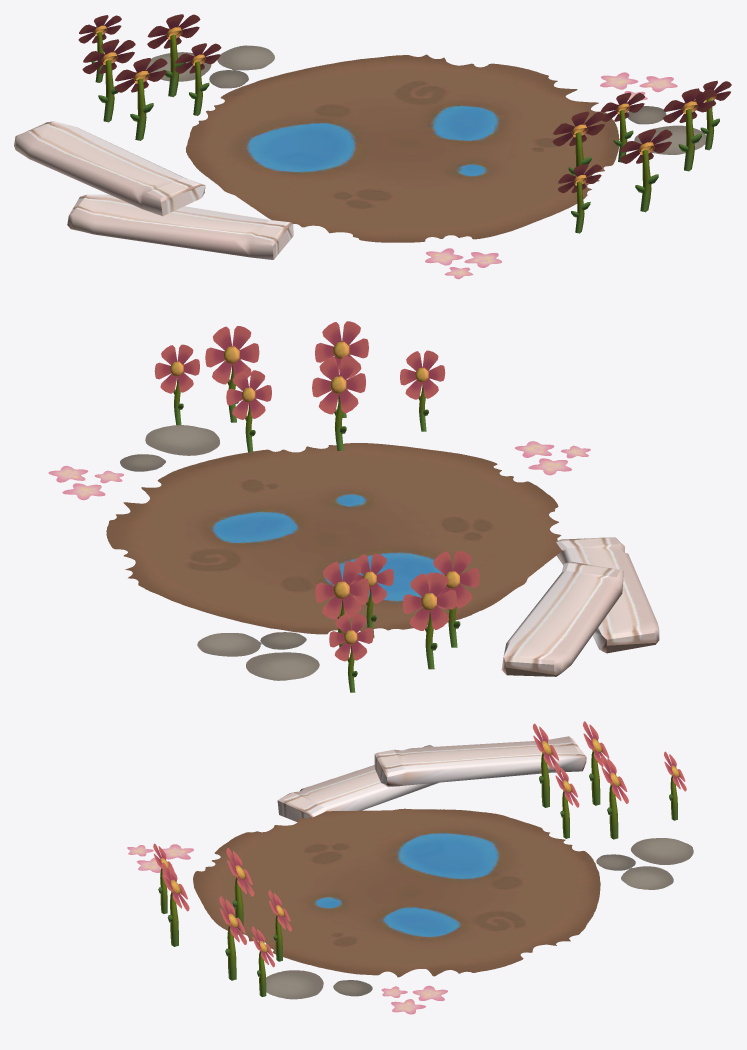
Rendered from DecoFishingPondBroken.fbx.
The picture shows the model from 3 angles, top to bottom: view 1: azimuth 30°, elevation 25°; view 2: azimuth 150°, elevation 25°; view 3: azimuth 270°, elevation 25°; orthographic projection. The views are drawn at different scales.
Visible parts, largest first — view 1: pPlane1 (1), Plank (×2), Redflower (7), Redflower (2), Redflower (1), Redflower (9), Redflower (8), Redflower (4), Redflower (6), Redflower (10), Redflower, Redflower (5) (+1 smaller); view 2: pPlane1 (1), Plank (×2), Redflower (9), Redflower (4), Redflower (1), Redflower (8), Redflower (7), Redflower, Redflower (10), Redflower (3), Redflower (5), Redflower (2) (+1 smaller); view 3: pPlane1 (1), Plank (×2), Redflower (1), Redflower (8), Redflower (2), Redflower (7), Redflower (9), Redflower (4), Redflower (6), Redflower, Redflower (3), Redflower (5) (+1 smaller).
Part boxes in pixels (left/top/right/bottom): pPlane1 (1): left=146, top=45, right=706, bottom=279; Plank (×2): left=14, top=121, right=293, bottom=259; Redflower (7): left=114, top=58, right=167, bottom=140; Redflower (2): left=619, top=129, right=672, bottom=212; Redflower (1): left=663, top=88, right=715, bottom=171; Redflower (9): left=82, top=39, right=135, bottom=122; Redflower (8): left=147, top=14, right=200, bottom=97; Redflower (4): left=552, top=111, right=605, bottom=186; Redflower (6): left=175, top=43, right=221, bottom=115; Redflower (10): left=558, top=164, right=601, bottom=233; Redflower: left=600, top=92, right=644, bottom=162; Redflower (5): left=78, top=15, right=121, bottom=82; pPlane1 (1): left=48, top=425, right=590, bottom=680; Plank (×2): left=501, top=537, right=659, bottom=676; Redflower (9): left=402, top=572, right=456, bottom=669; Redflower (4): left=312, top=356, right=365, bottom=450; Redflower (1): left=205, top=326, right=259, bottom=422; Redflower (8): left=315, top=561, right=369, bottom=647; Redflower (7): left=426, top=550, right=479, bottom=647; Redflower: left=226, top=370, right=271, bottom=452; Redflower (10): left=400, top=350, right=445, bottom=431; Redflower (3): left=154, top=344, right=199, bottom=425; Redflower (5): left=329, top=613, right=373, bottom=692; Redflower (2): left=315, top=321, right=368, bottom=417; pPlane1 (1): left=127, top=808, right=693, bottom=1014; Plank (×2): left=277, top=736, right=586, bottom=822; Redflower (1): left=219, top=896, right=246, bottom=980; Redflower (8): left=601, top=755, right=628, bottom=839; Redflower (2): left=161, top=862, right=189, bottom=946; Redflower (7): left=533, top=723, right=560, bottom=807; Redflower (9): left=583, top=721, right=610, bottom=805; Redflower (4): left=226, top=848, right=254, bottom=930; Redflower (6): left=555, top=765, right=579, bottom=838; Redflower: left=268, top=890, right=291, bottom=961; Redflower (3): left=251, top=926, right=274, bottom=996; Redflower (5): left=664, top=751, right=686, bottom=820.
Size of the model in its own units: 5.75 by 0.8249 by 5.69.
